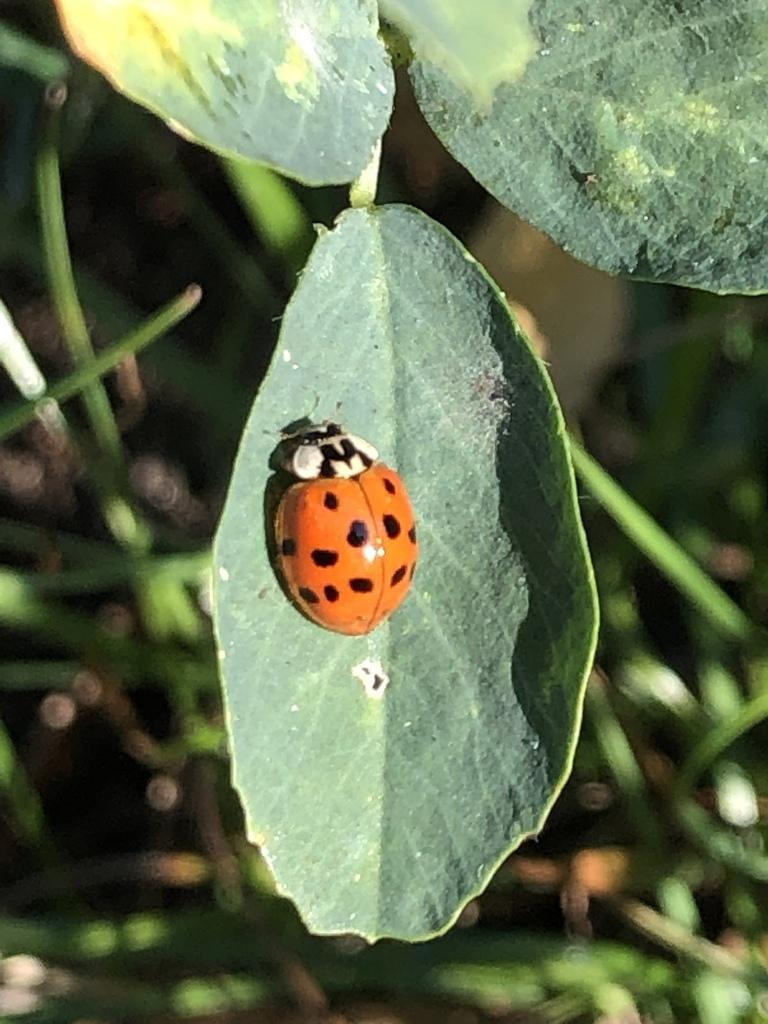ladybug: (256, 399, 424, 639)
